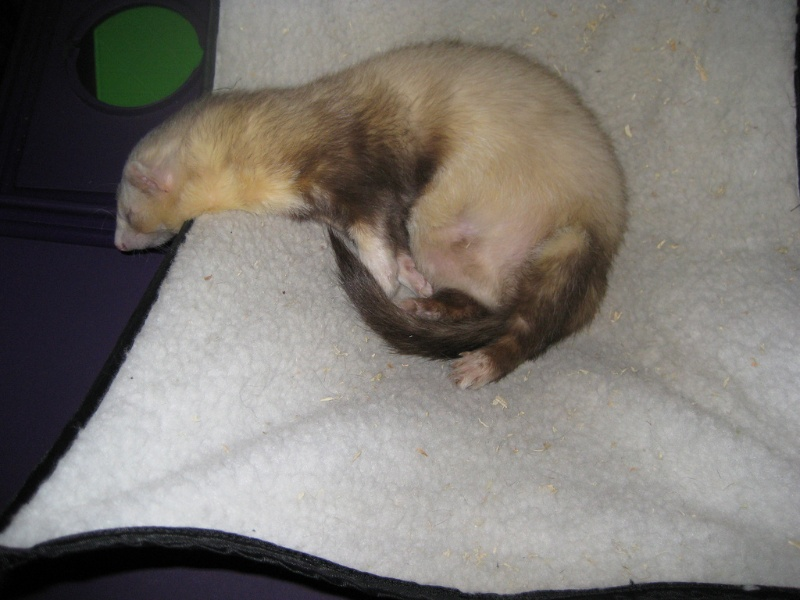minkish: (108, 35, 634, 398)
